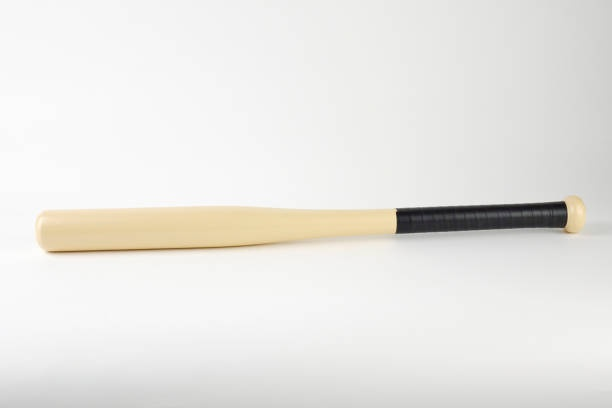bita: (37, 194, 580, 248)
